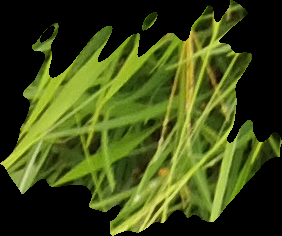grass: (1, 1, 281, 234)
